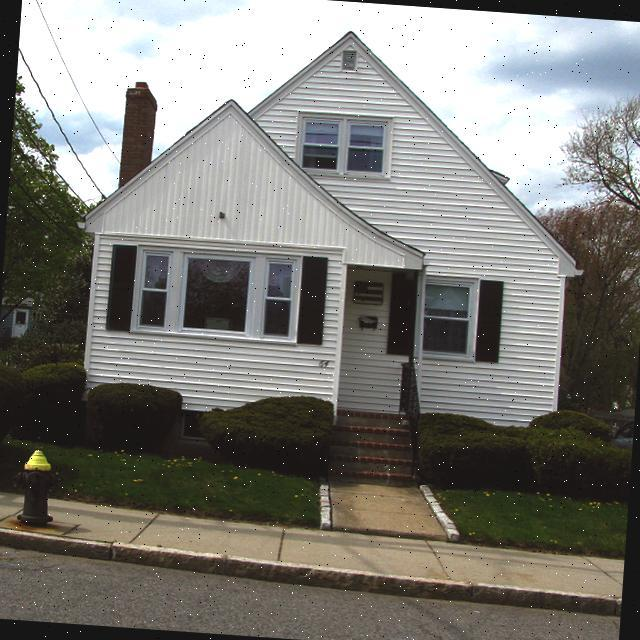fire_hydrant: (15, 446, 58, 526)
